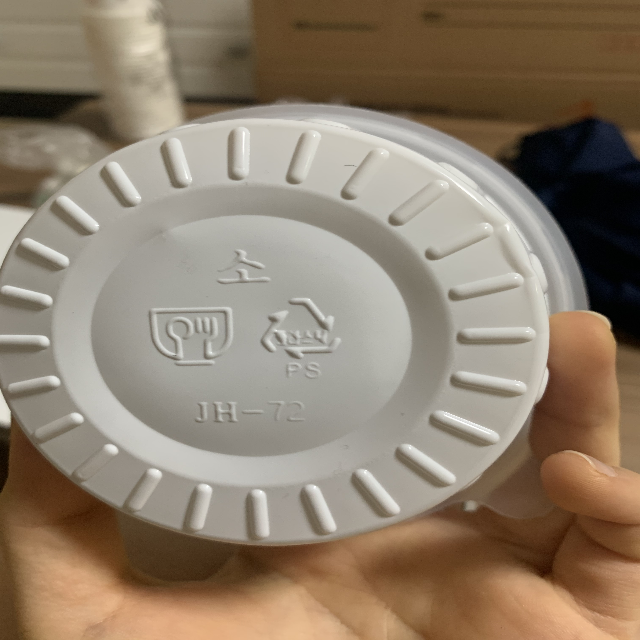ps: (257, 294, 345, 377)
